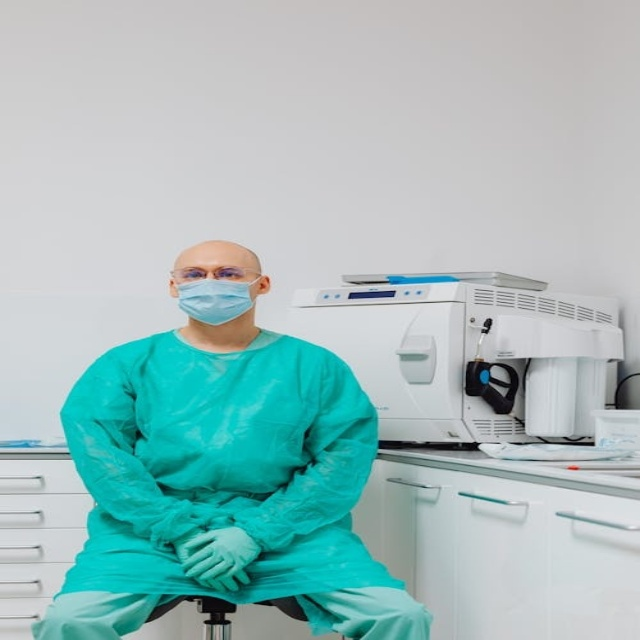Gafas: (169, 266, 261, 284)
Guantes: (179, 526, 261, 591)
Mascara: (173, 276, 259, 325)
